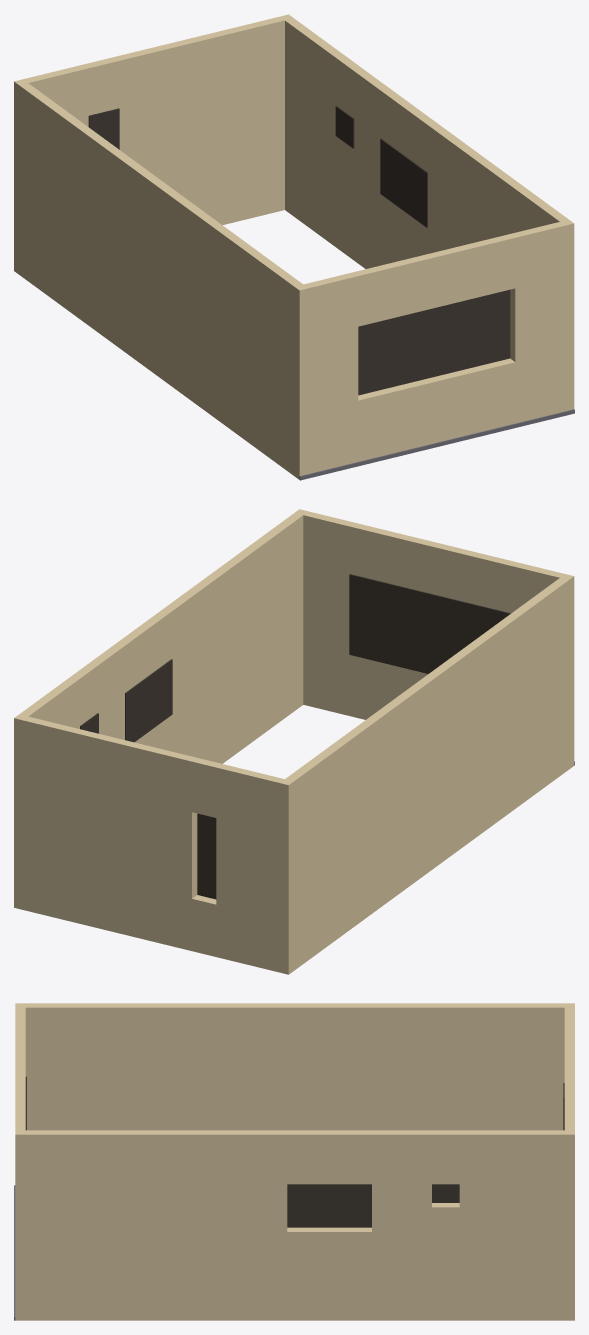
The model's file is SM_Floor_NarrowUpperWindowEndR_Yellow_455_Back_01.gltf.
3 renders of one model, top to bottom at view 1: azimuth 30°, elevation 25°; view 2: azimuth 150°, elevation 25°; view 3: azimuth 270°, elevation 25°, orthographic. The views are drawn at different scales.
Parts seen in each view (by area): view 1: SM_Floor_NarrowUpperWindowEndR_Yellow_455_Back_01; view 2: SM_Floor_NarrowUpperWindowEndR_Yellow_455_Back_01; view 3: SM_Floor_NarrowUpperWindowEndR_Yellow_455_Back_01.
Part boxes in pixels (x1=…): SM_Floor_NarrowUpperWindowEndR_Yellow_455_Back_01: x1=14, y1=14, x2=574, y2=480; SM_Floor_NarrowUpperWindowEndR_Yellow_455_Back_01: x1=14, y1=509, x2=574, y2=974; SM_Floor_NarrowUpperWindowEndR_Yellow_455_Back_01: x1=14, y1=1003, x2=574, y2=1320.
Size of the model in its own units: 4.55 by 3 by 8.21.
Materials: 1 (1 with a texture image).
